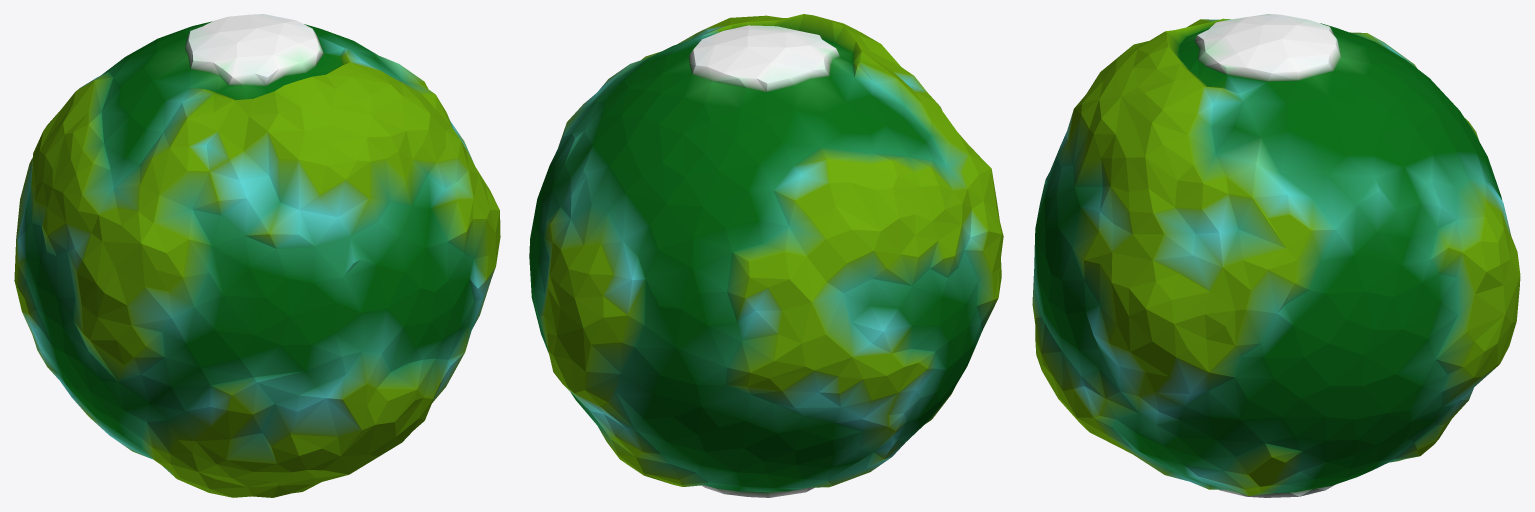
The model's file is planet_2.fbx.
3 views of the same model, side by side, from view 1: azimuth 30°, elevation 25°; view 2: azimuth 150°, elevation 25°; view 3: azimuth 270°, elevation 25° (orthographic). The views are drawn at different scales.
Parts seen in each view (by area): view 1: file1; view 2: file1; view 3: file1.
Boxes of the visible parts, x1,y1,x2,y2 form: file1: (14,14,500,497); file1: (529,14,1003,497); file1: (1032,14,1520,497).
Bounding box in the file's own units: 2.01 × 2.06 × 2.06.
